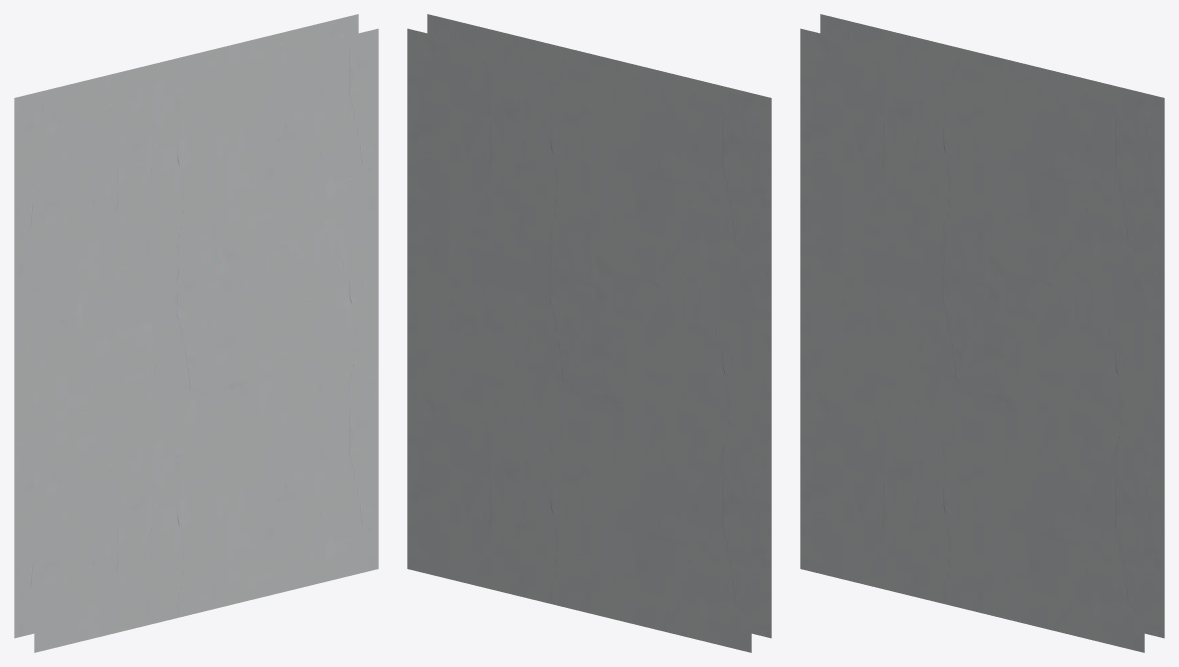
File: Partition_Office.glb
The picture shows the model from 3 angles, left to right: view 1: azimuth 30°, elevation 25°; view 2: azimuth 150°, elevation 25°; view 3: azimuth 330°, elevation 25°; orthographic projection.
Visible parts, largest first — view 1: Brick_Plain_3_noWear; view 2: Brick_Plain_3_noWear; view 3: Brick_Plain_3_noWear.
Boxes of the visible parts, x1,y1,x2,y2 form: Brick_Plain_3_noWear: [14, 14, 378, 652]; Brick_Plain_3_noWear: [407, 14, 771, 652]; Brick_Plain_3_noWear: [800, 14, 1164, 652].
Bounding box in the file's own units: 2 × 3 × 0.2.
Materials: 1 (1 with a texture image).
